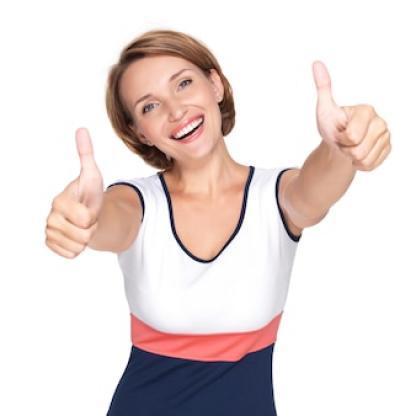thumb_up: (300, 57, 396, 176), (37, 124, 113, 262)
